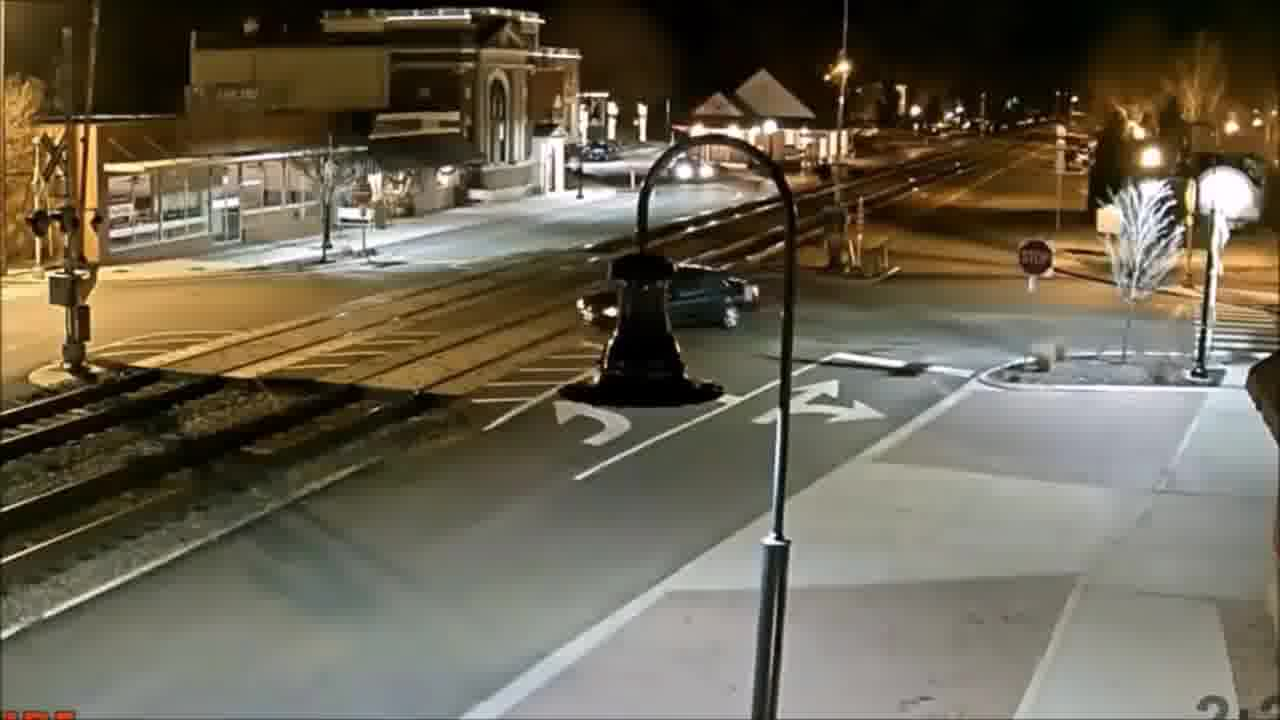crossing railway track: (581, 250, 765, 346)
